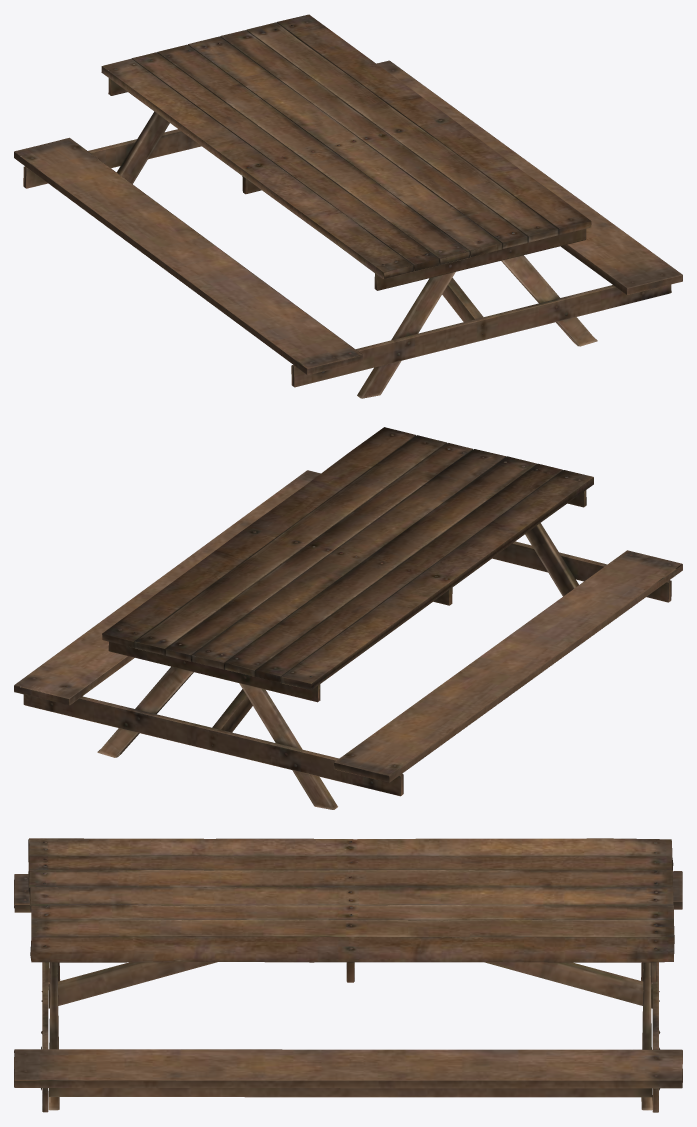
Rendered from picnic_table.glb.
The picture shows the model from 3 angles, top to bottom: view 1: azimuth 30°, elevation 25°; view 2: azimuth 150°, elevation 25°; view 3: azimuth 270°, elevation 25°; orthographic projection. The views are drawn at different scales.
Visible parts, largest first — view 1: picnic_table; view 2: picnic_table; view 3: picnic_table.
Boxes of the visible parts, bbox=[...] form: picnic_table: bbox=[14, 14, 682, 398]; picnic_table: bbox=[14, 427, 682, 809]; picnic_table: bbox=[14, 838, 682, 1112].
Bounding box in the file's own units: 2.24 × 0.7462 × 3.02.
2 materials, 2 textured.
